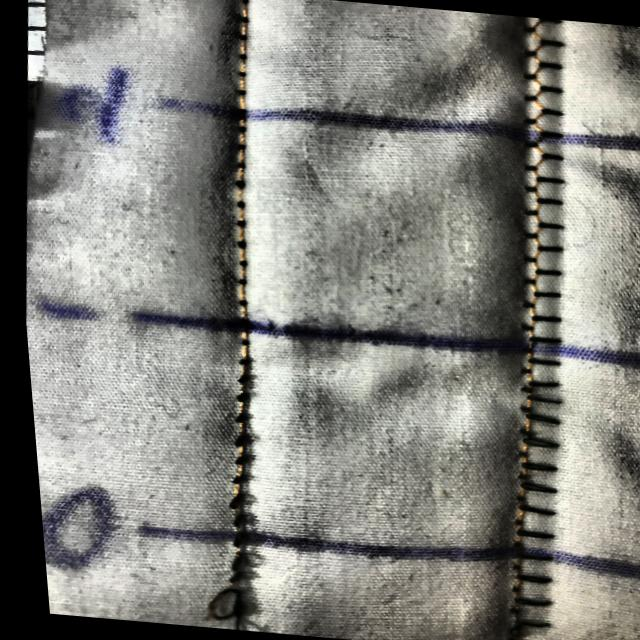Stitch: (185, 427, 277, 630)
